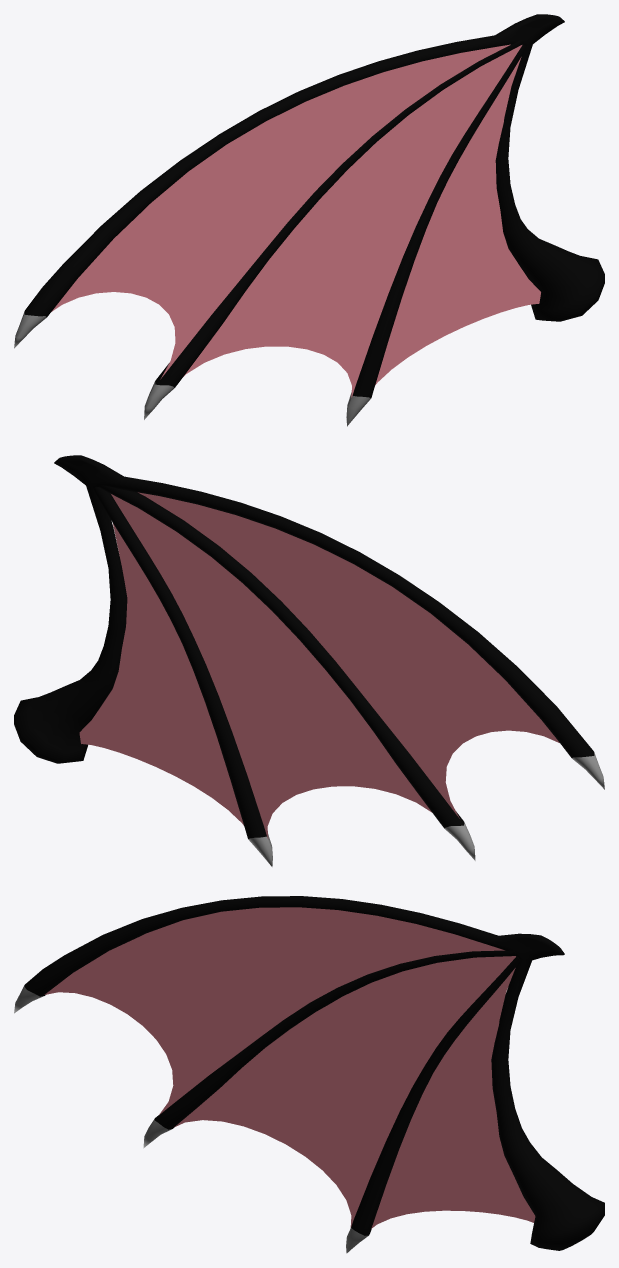
Rendered from SlimeWings.fbx.
The picture shows the model from 3 angles, top to bottom: view 1: azimuth 30°, elevation 25°; view 2: azimuth 150°, elevation 25°; view 3: azimuth 330°, elevation 25°; orthographic projection.
Parts seen in each view (by area): view 1: WingMembrane, MainWingBone, WingBone2, WingBone1; view 2: WingMembrane, MainWingBone, WingBone2, WingBone1; view 3: WingMembrane, MainWingBone, WingBone2, WingBone1.
Part boxes in pixels (<box>): WingMembrane: <box>51,44,540,397</box>; MainWingBone: <box>14,14,604,348</box>; WingBone2: <box>144,40,522,419</box>; WingBone1: <box>346,44,526,426</box>; WingMembrane: <box>79,492,559,839</box>; MainWingBone: <box>14,455,604,789</box>; WingBone2: <box>99,485,475,860</box>; WingBone1: <box>93,486,272,866</box>; WingMembrane: <box>44,907,535,1228</box>; MainWingBone: <box>14,896,604,1250</box>; WingBone2: <box>143,950,515,1148</box>; WingBone1: <box>346,956,520,1253</box>.
Bounding box in the file's own units: 200 × 24.01 × 119.
